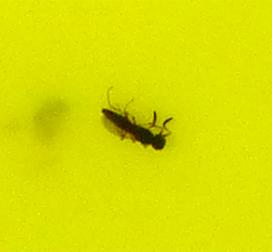Hymenoptera: (100, 100, 172, 152)
